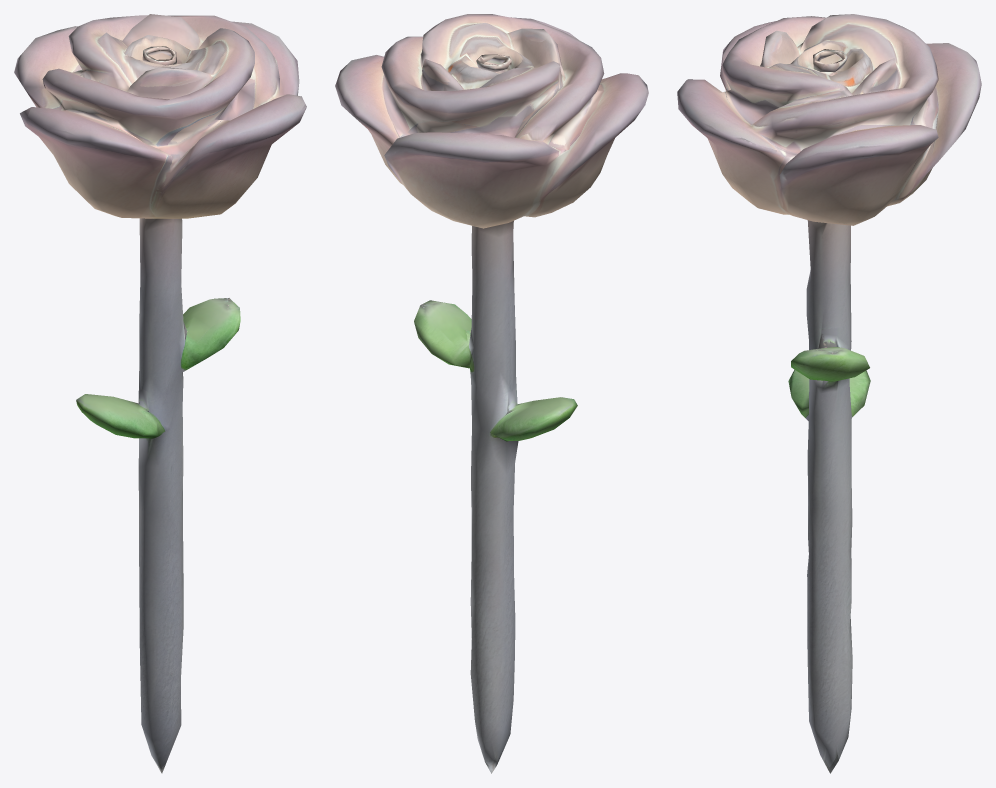
Rendered from DDP_장미한송이.glb.
The picture shows the model from 3 angles, left to right: view 1: azimuth 30°, elevation 25°; view 2: azimuth 150°, elevation 25°; view 3: azimuth 270°, elevation 25°; orthographic projection.
Visible parts, largest first — view 1: texture_mapping; view 2: texture_mapping; view 3: texture_mapping.
Part boxes in pixels (x1,y1,x2,y2): texture_mapping: (14,14,306,773); texture_mapping: (335,14,648,773); texture_mapping: (677,14,981,773).
Size of the model in its own units: 0.3846 by 1.01 by 0.3833.
Materials: 1 (1 with a texture image).
